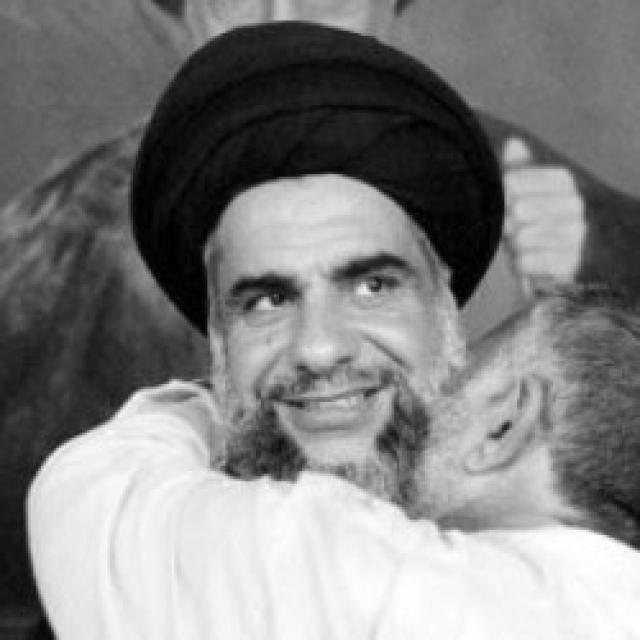real: (213, 174, 443, 473), (229, 252, 418, 326)
